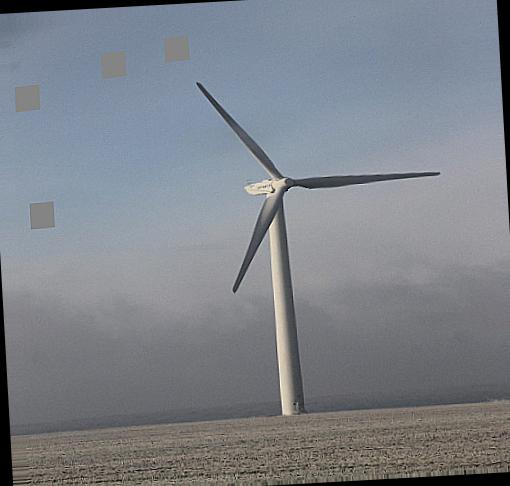wind turbine: (196, 80, 444, 422)
